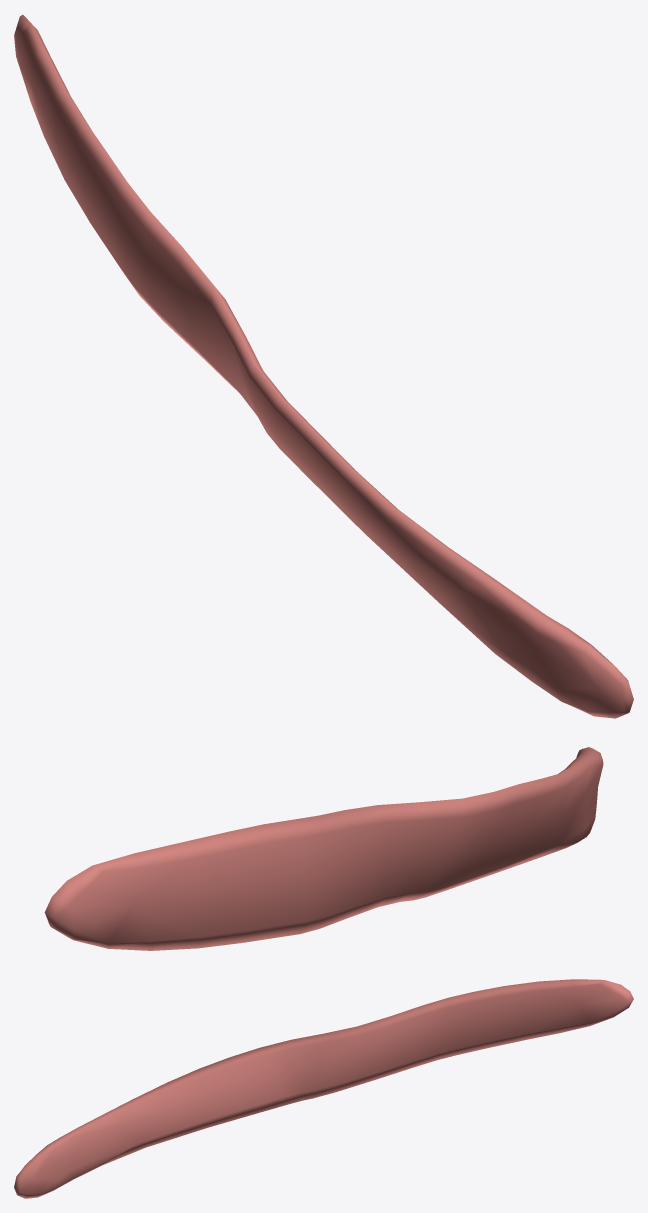
The picture shows the model from 3 angles, top to bottom: view 1: azimuth 30°, elevation 25°; view 2: azimuth 150°, elevation 25°; view 3: azimuth 270°, elevation 25°; orthographic projection. The views are drawn at different scales.
Parts seen in each view (by area): view 1: ZA_3f077e33df208b1d; view 2: ZA_3f077e33df208b1d; view 3: ZA_3f077e33df208b1d.
Boxes of the visible parts, bbox=[...] form: ZA_3f077e33df208b1d: bbox=[14, 14, 633, 718]; ZA_3f077e33df208b1d: bbox=[44, 747, 603, 950]; ZA_3f077e33df208b1d: bbox=[14, 979, 633, 1198].
Bounding box in the file's own units: 0.00335 × 0.00783 × 0.0222.
